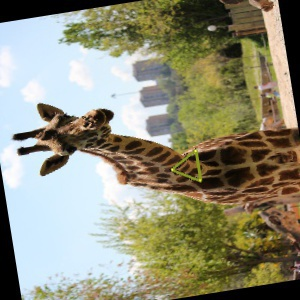triangle: (168, 146, 204, 185)
